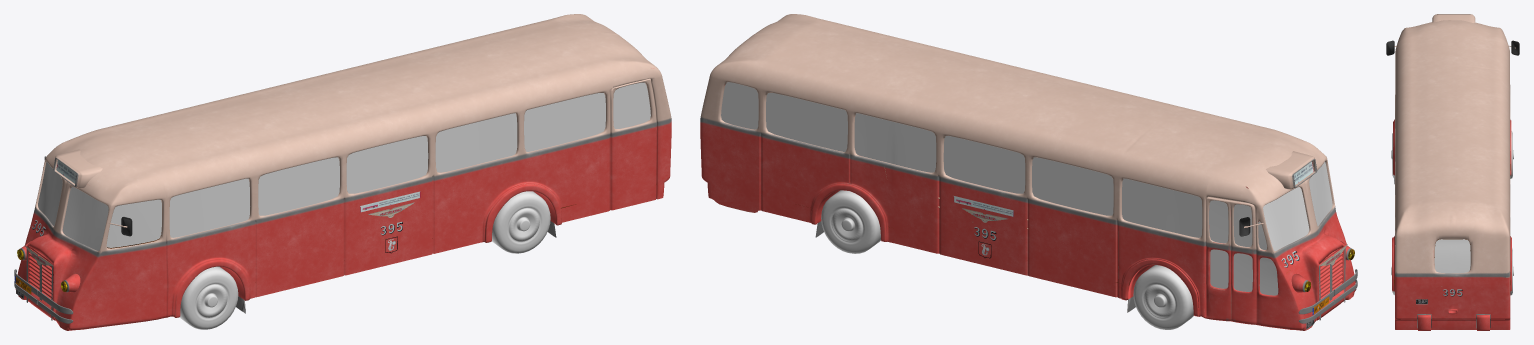
The model's file is AUTOBUS FINAL.fbx.
3 views of the same model, side by side, from view 1: azimuth 30°, elevation 25°; view 2: azimuth 150°, elevation 25°; view 3: azimuth 270°, elevation 25° (orthographic). The views are drawn at different scales.
Parts seen in each view (by area): view 1: karoseria, szyby, koła, detale, zderzak; view 2: karoseria, szyby, koła, detale, zderzak; view 3: karoseria, szyby, koła, detale.
Part boxes in pixels (<box>): karoseria: <box>15,14,671,330</box>; szyby: <box>38,82,650,250</box>; koła: <box>179,191,550,329</box>; detale: <box>14,160,420,298</box>; zderzak: <box>14,249,73,323</box>; karoseria: <box>700,14,1356,330</box>; szyby: <box>721,82,1332,295</box>; koła: <box>821,190,1193,329</box>; detale: <box>953,161,1347,329</box>; zderzak: <box>1298,248,1357,323</box>; karoseria: <box>1386,14,1519,330</box>; szyby: <box>1434,239,1470,273</box>; koła: <box>1391,131,1513,295</box>; detale: <box>1416,286,1462,304</box>.
Bounding box in the file's own units: 227 × 60.3 × 57.01.
